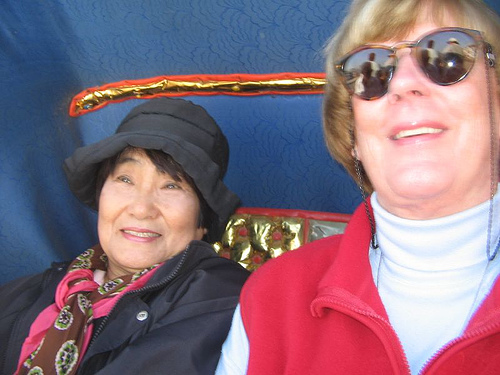without_mask: (324, 4, 500, 217), (96, 125, 213, 276)
